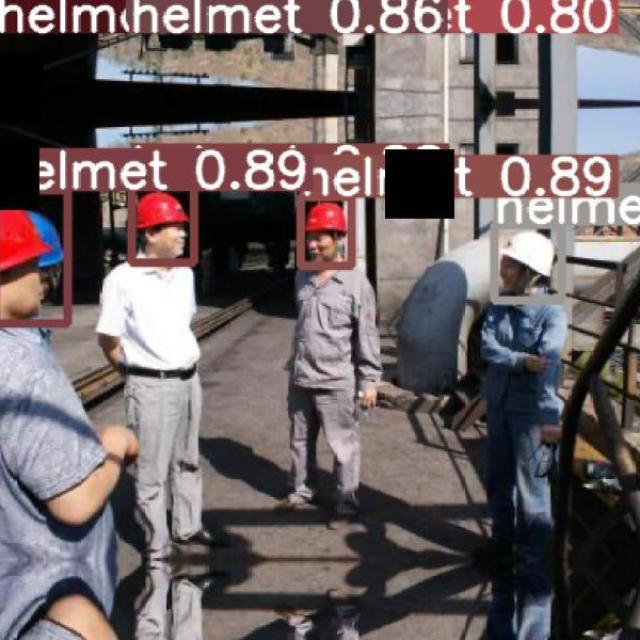helmet: (0, 209, 52, 273), (499, 230, 555, 278), (134, 192, 189, 229), (304, 202, 347, 234)
